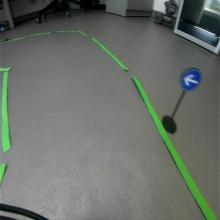left: (180, 67, 202, 92)
